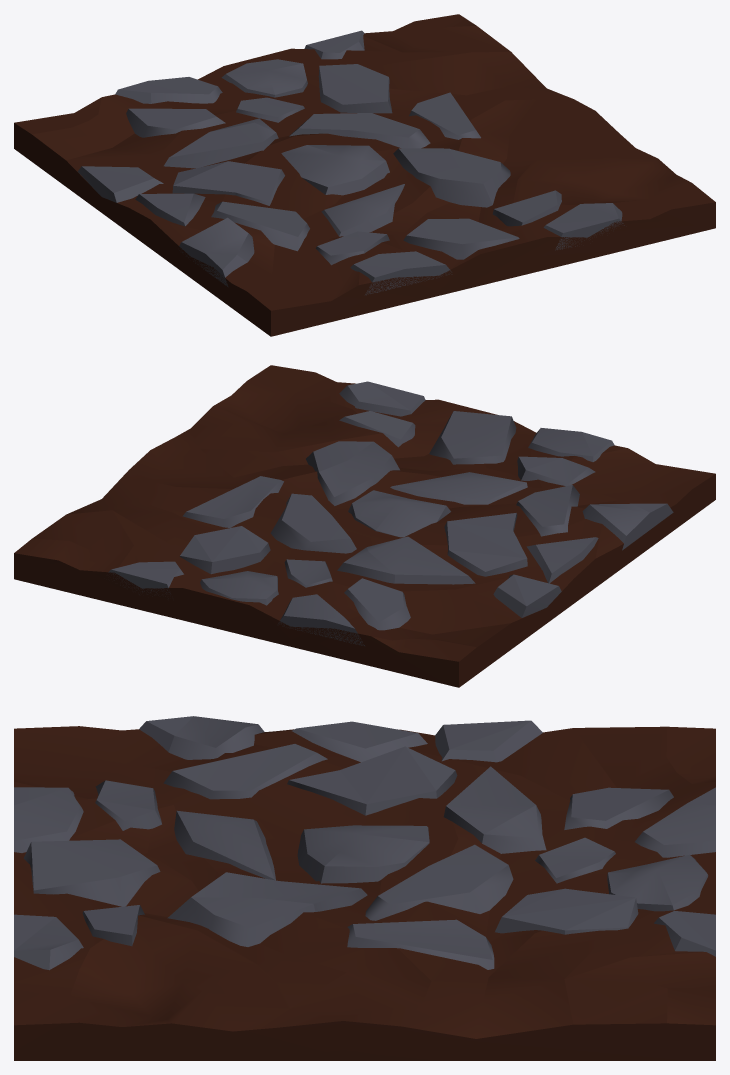
The model's file is Ground_Stone_Path_Crossroads_L.fbx.
3 renders of one model, top to bottom at view 1: azimuth 30°, elevation 25°; view 2: azimuth 150°, elevation 25°; view 3: azimuth 270°, elevation 25°, orthographic. The views are drawn at different scales.
Parts seen in each view (by area): view 1: Ground_Stone_Path_Crossroads_L; view 2: Ground_Stone_Path_Crossroads_L; view 3: Ground_Stone_Path_Crossroads_L.
Part boxes in pixels (x1,y1,x2,y2): Ground_Stone_Path_Crossroads_L: (14,14,715,336); Ground_Stone_Path_Crossroads_L: (14,365,715,687); Ground_Stone_Path_Crossroads_L: (14,716,715,1060).
Bounding box in the file's own units: 147 × 14.83 × 147.
